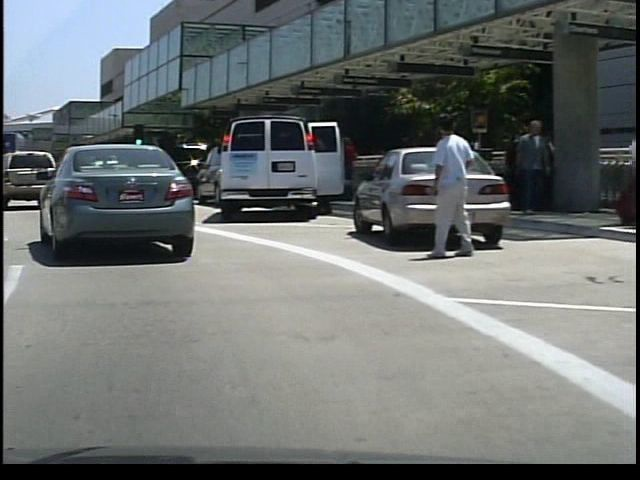person: (419, 108, 473, 260), (503, 116, 547, 216), (334, 131, 359, 205)
